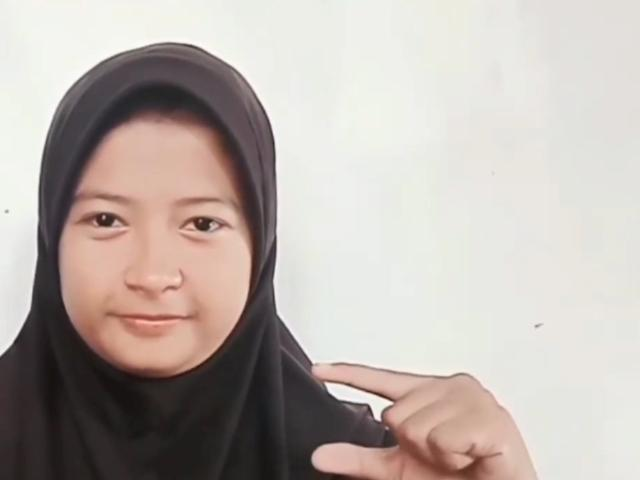G: (307, 358, 539, 480)
